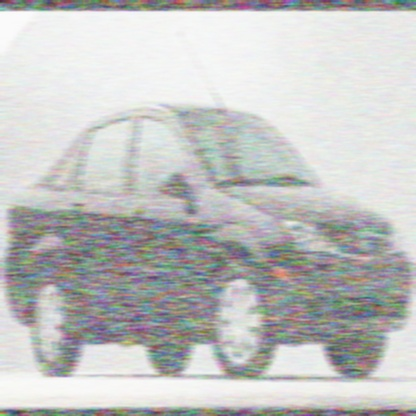Vehicle: (3, 100, 414, 381)
